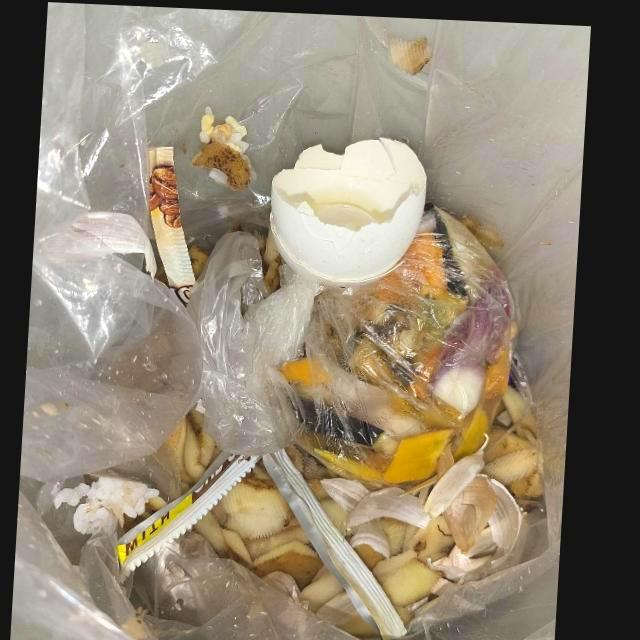left_over_food: (287, 201, 518, 482)
plastic_bag: (26, 2, 258, 482), (190, 231, 321, 454)
